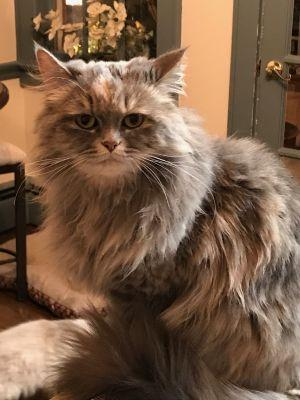persian: (25, 32, 202, 200)
